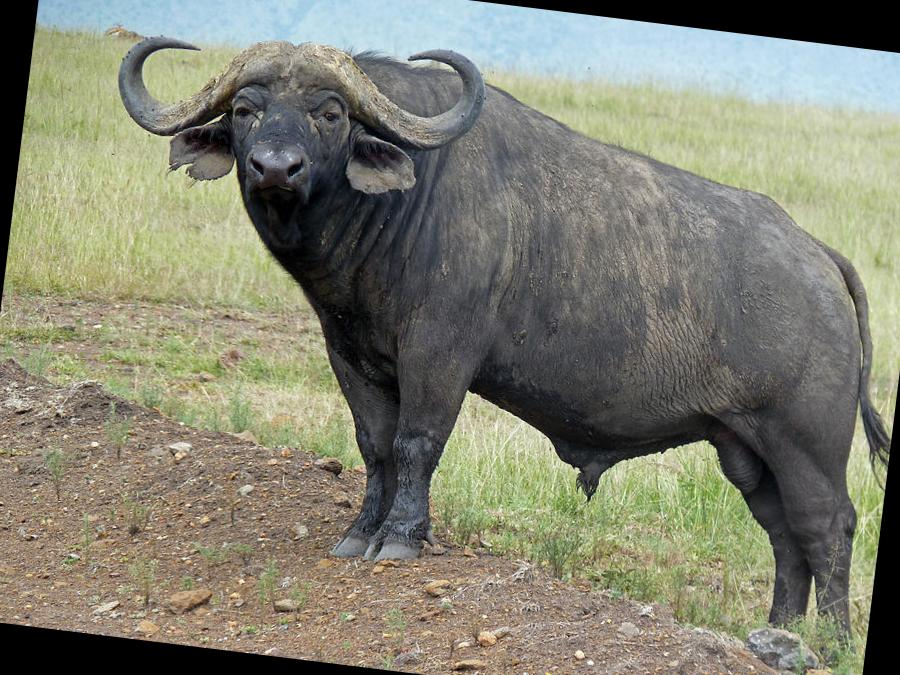Buffalo: (38, 0, 900, 631)
